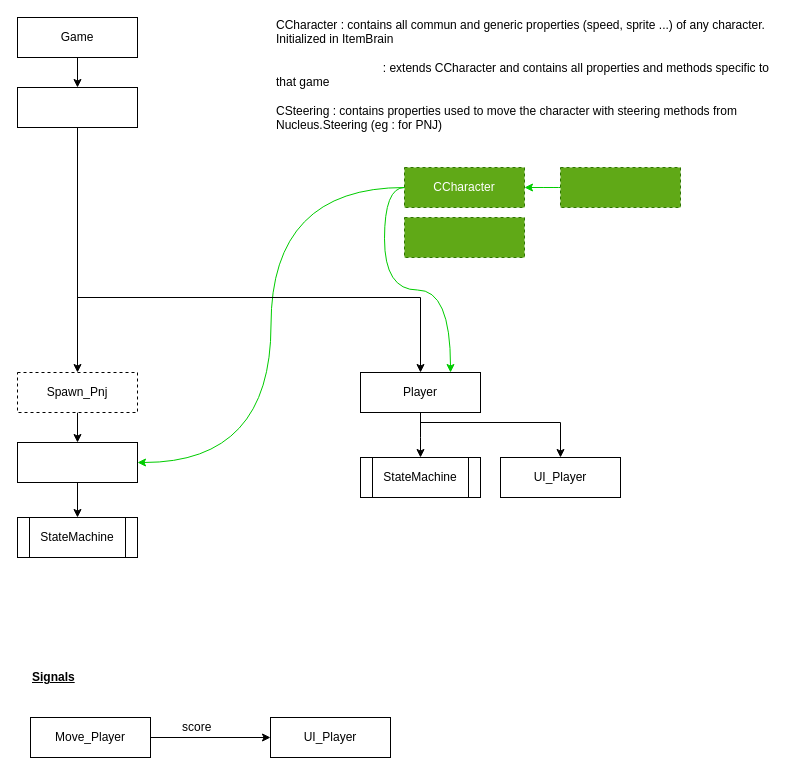
Some shapes in this 808 by 775 pixel diagram are drawn without their labels. Here are the shapes that lost their labels. From the top down, the box of each, then its label:
(16, 86, 138, 128): CharactersBrain
(560, 166, 680, 208): CSteering
(404, 216, 524, 258): CCharacterSpecific
(16, 442, 138, 482): PNJ
